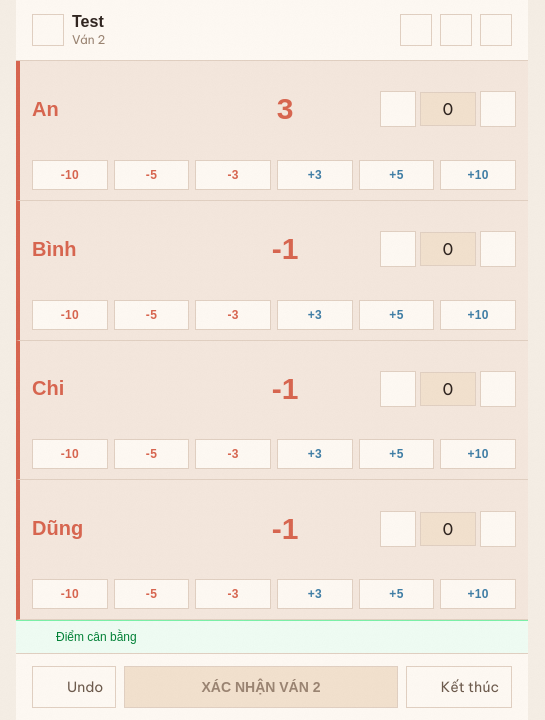
Scenario: Automatic last-unentered score › allows quick buttons to override the auto-filled score
Replace the text in the field named "Điểm ván của An" with "10" at (448, 109), box [420,92,476,126]
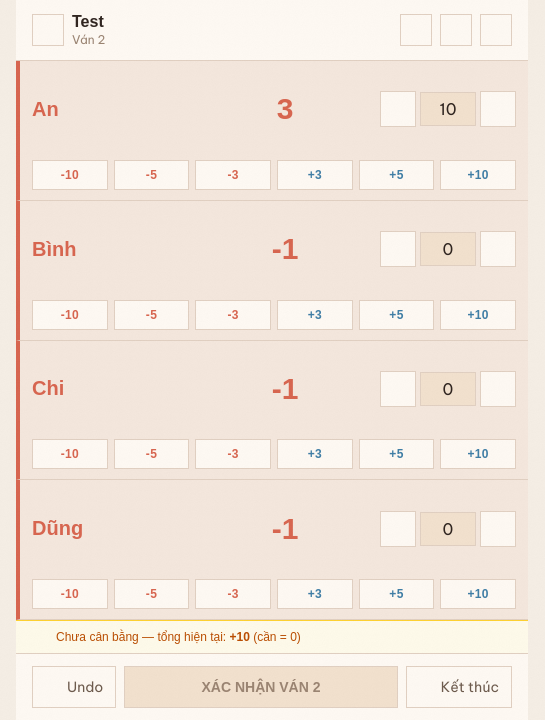
Replace the text in the field named "Điểm ván của Bình" with "-3" at (448, 249), box [420,232,476,266]
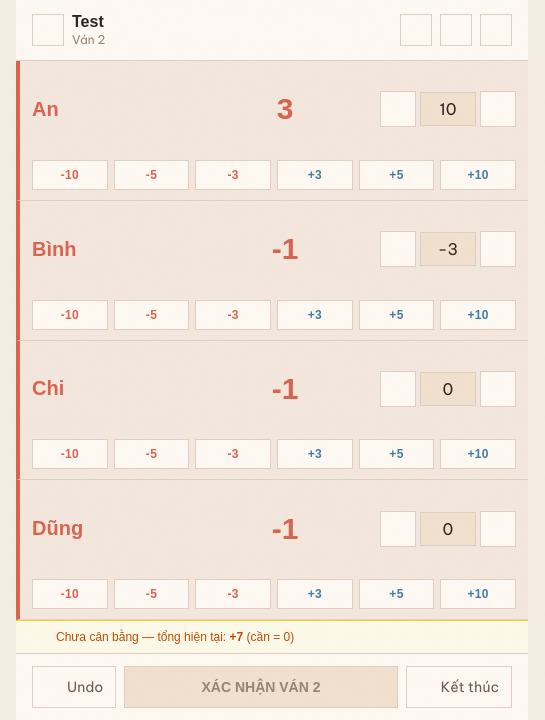
Replace the text in the field named "Điểm ván của Chi" with "5" at (448, 389), box [420,372,476,406]
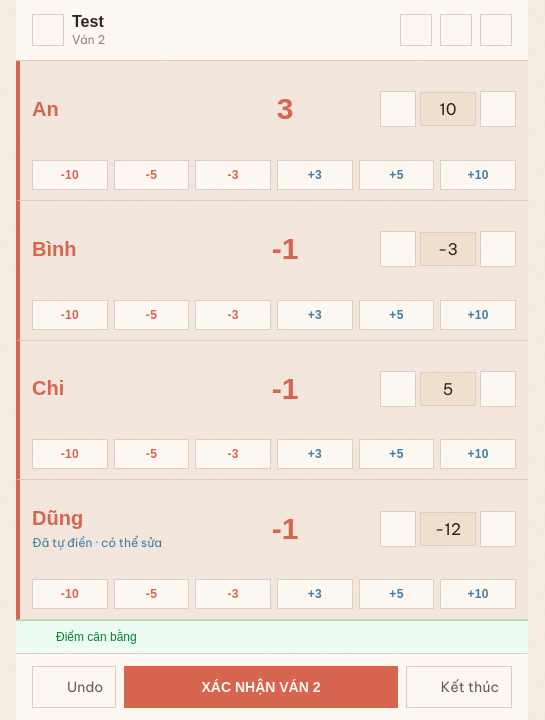
Click the button "+3" below "Đã tự điền · có thể sửa".
click(315, 594)  # box [277,579,353,609]
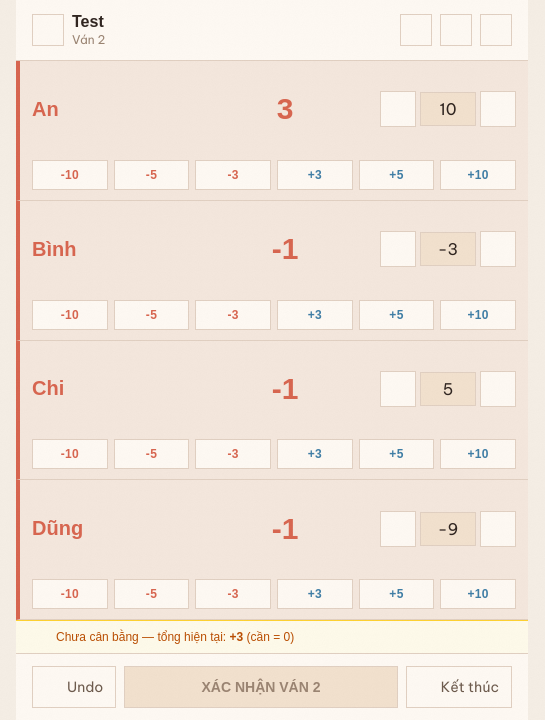
Expected: the text "Chưa cân bằng" is shown, [56,630,230,644]
